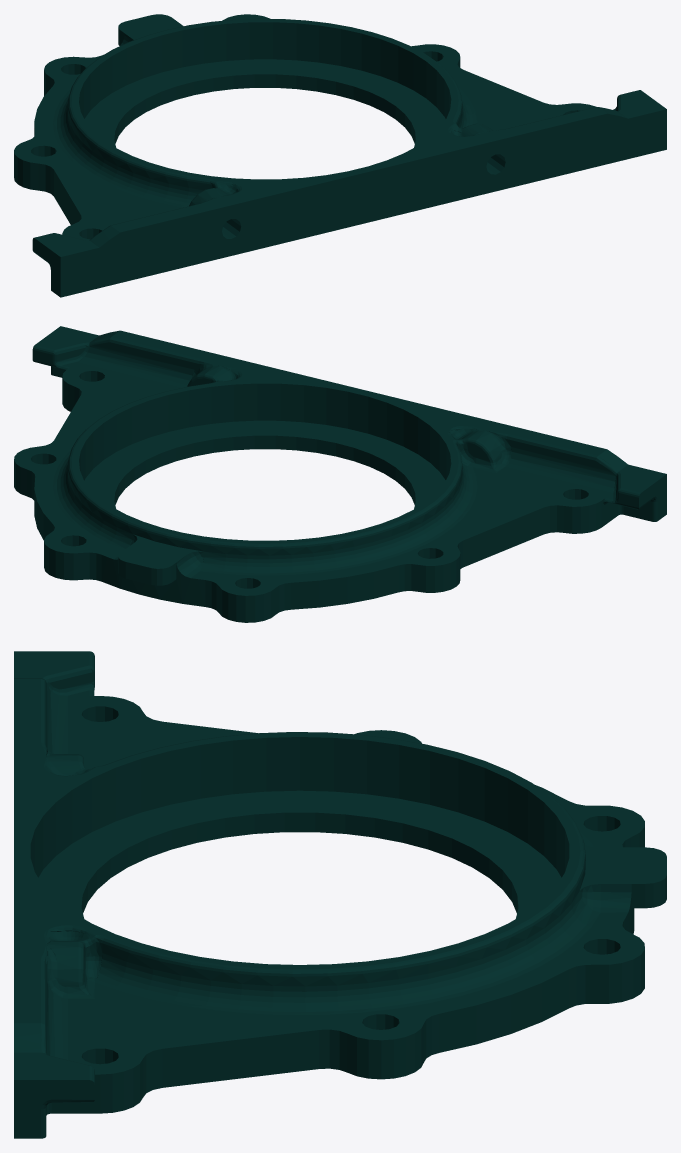
Rendered from Держатель заднего сальника коленчатого вала.obj.
3 renders of one model, top to bottom at view 1: azimuth 30°, elevation 25°; view 2: azimuth 150°, elevation 25°; view 3: azimuth 270°, elevation 25°, orthographic. The views are drawn at different scales.
Visible parts, largest first — view 1: Держатель_заднего_сальника_коленч; view 2: Держатель_заднего_сальника_коленч; view 3: Держатель_заднего_сальника_коленч.
Part boxes in pixels (<box>): Держатель_заднего_сальника_коленч: <box>14,14,666,297</box>; Держатель_заднего_сальника_коленч: <box>14,326,666,622</box>; Держатель_заднего_сальника_коленч: <box>14,651,666,1138</box>.
Size of the model in its own units: 188 by 15 by 121.
